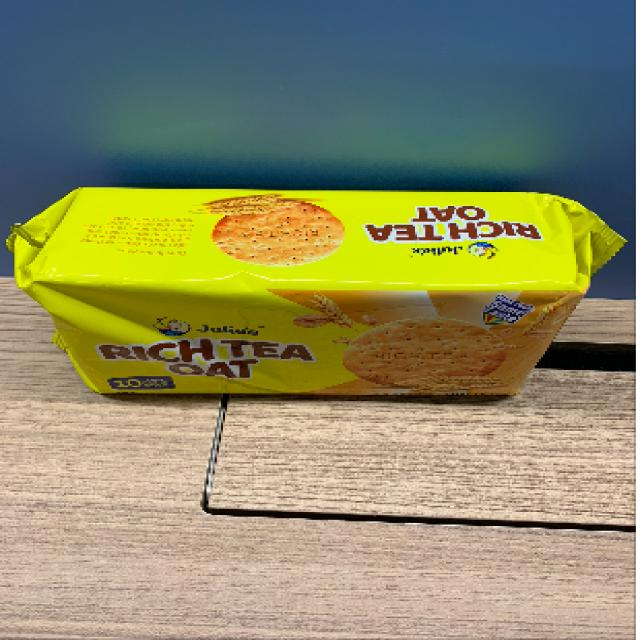object_name: (40, 189, 546, 390)
